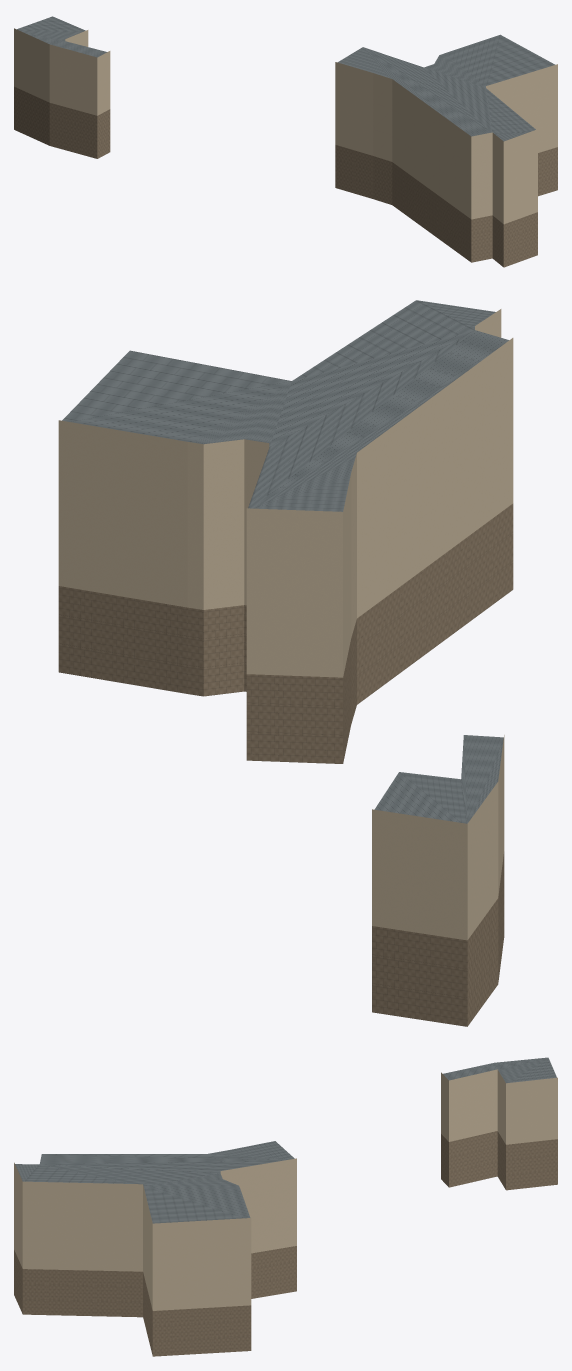
Rendered from bld_c32_-38_453.gltf.
3 renders of one model, top to bottom at view 1: azimuth 30°, elevation 25°; view 2: azimuth 150°, elevation 25°; view 3: azimuth 270°, elevation 25°, orthographic. The views are drawn at different scales.
Parts seen in each view (by area): view 1: bld_c32_-38_453; view 2: bld_c32_-38_453; view 3: bld_c32_-38_453.
Part boxes in pixels (bbox=[...]): bld_c32_-38_453: bbox=[14, 16, 557, 267]; bld_c32_-38_453: bbox=[58, 300, 513, 1026]; bld_c32_-38_453: bbox=[14, 1057, 557, 1356].
Bounding box in the file's own units: 44.01 × 14.88 × 55.15.
Materials: 4 (4 with a texture image).
